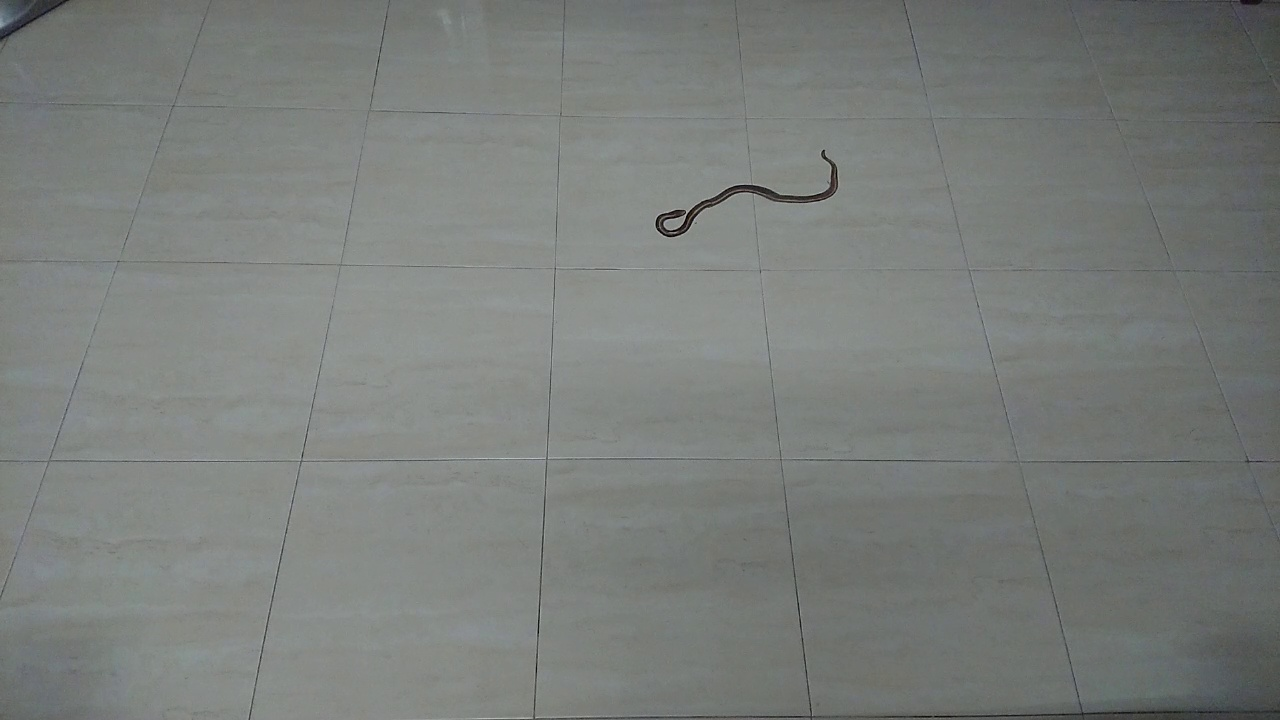snake: (644, 135, 848, 246)
